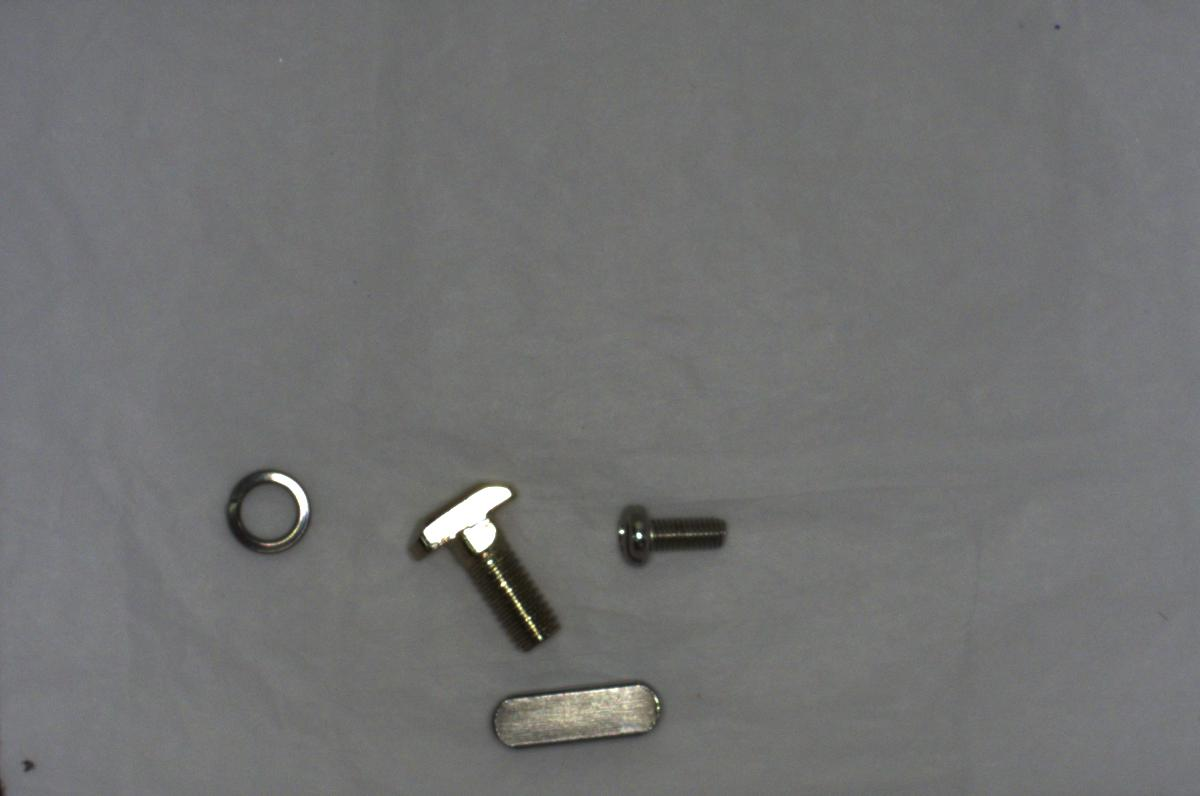Keybar: (480, 673, 674, 759)
Round head screw: (604, 496, 734, 567)
Spring washer: (219, 463, 314, 562)
T-shaped screw: (395, 466, 565, 658)
